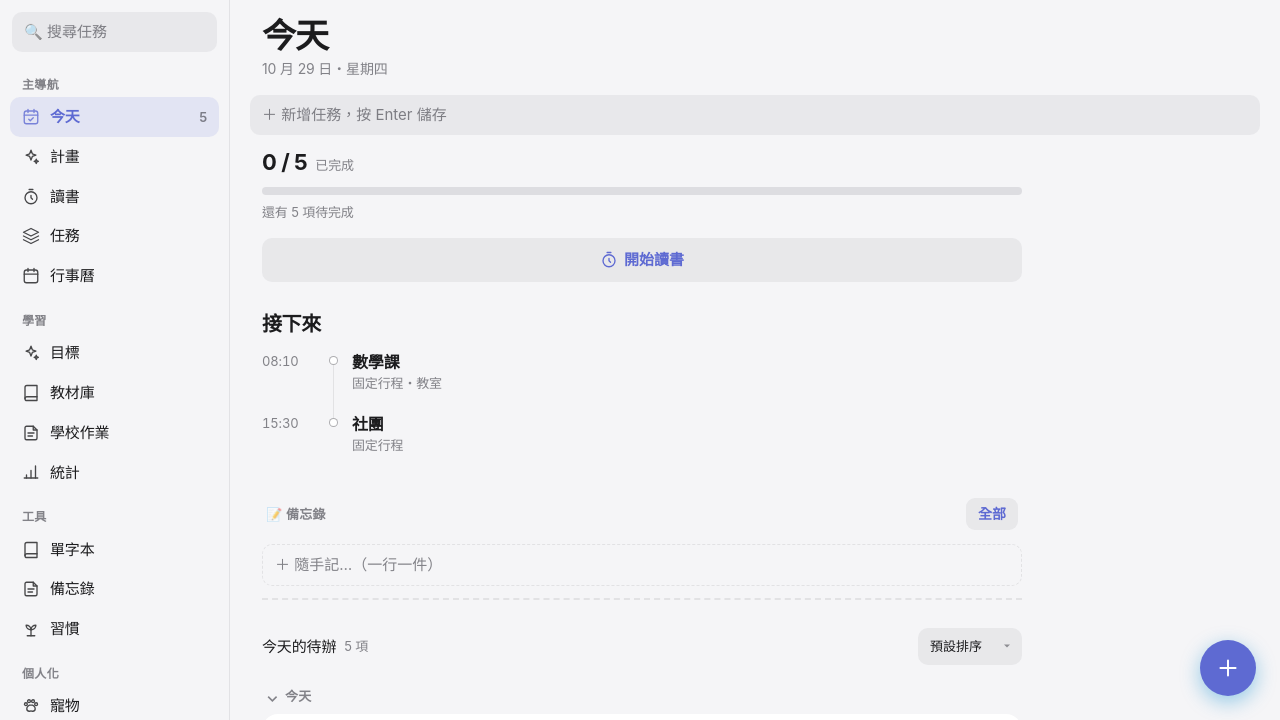
Test case: TodayView › 4. 能 render，且「開始讀書」進得了 Study
expect the heading "今天" is shown: met, box [262,15,328,56]
expect the text "數學課" is shown: met, box [352,352,400,372]
Click the button "開始讀書" at (642, 260), box [262,238,1022,282]
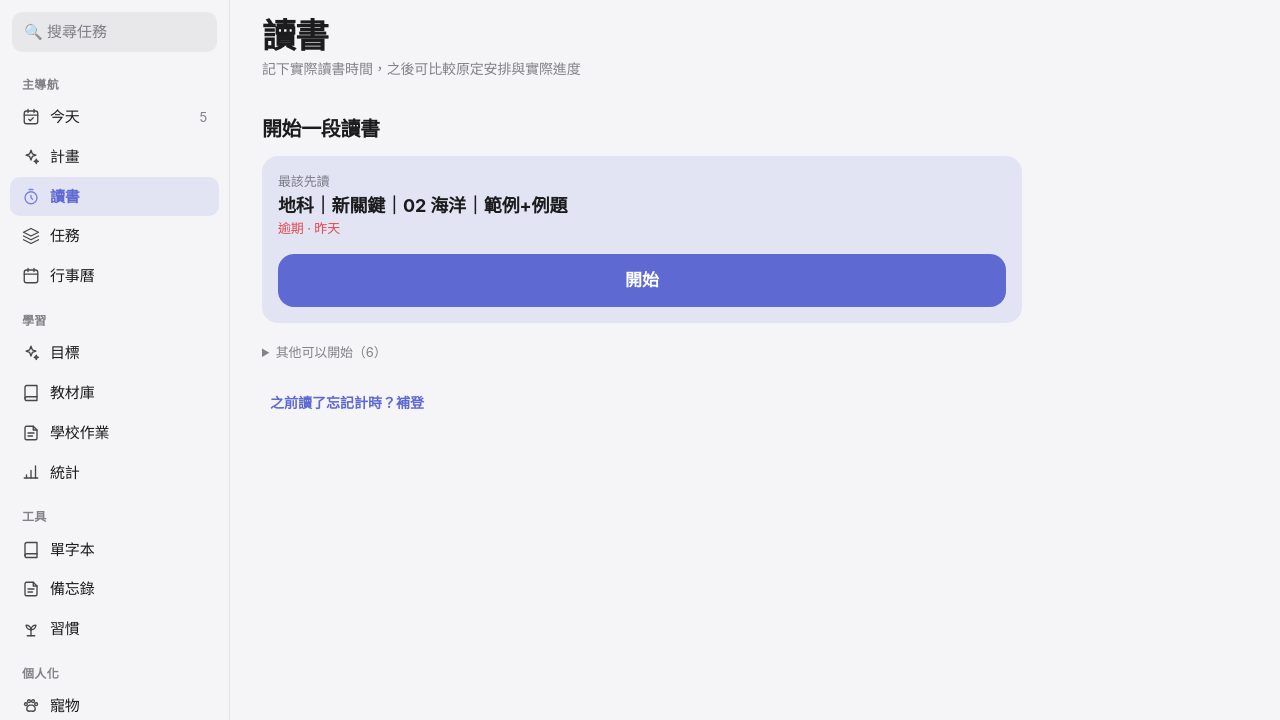
expect the heading "讀書" is shown: met, box [262,15,328,56]
